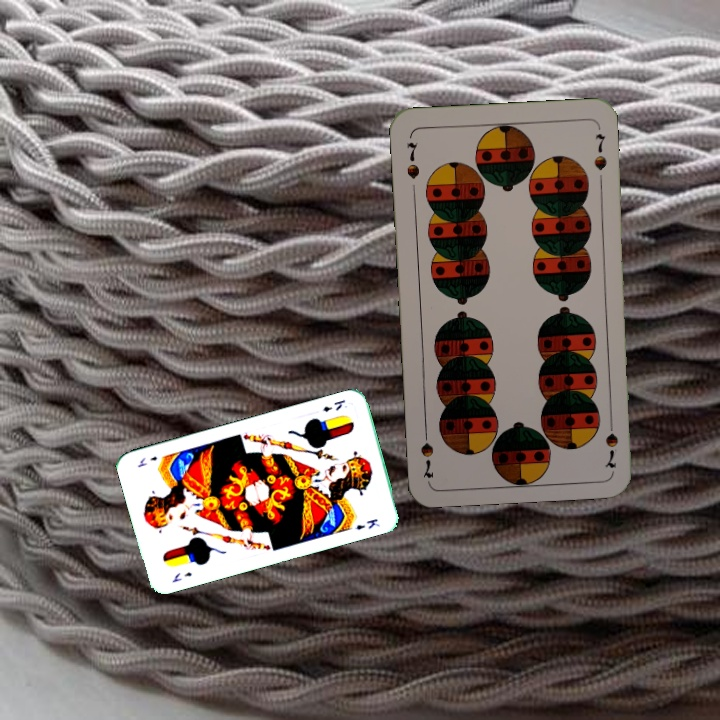EK: (319, 396, 347, 415), (168, 568, 195, 585)
S7: (601, 412, 621, 471), (402, 138, 422, 182)
